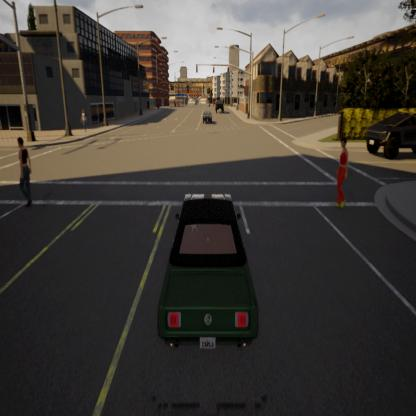Cars: (158, 192, 260, 356), (362, 108, 416, 157), (214, 96, 226, 115), (202, 108, 212, 126)
Pedestrian: (14, 134, 34, 211), (333, 129, 350, 213)
